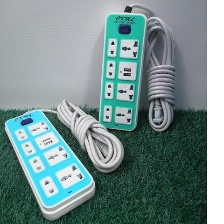three_eye_plug: (1, 107, 98, 222), (93, 8, 149, 134)
